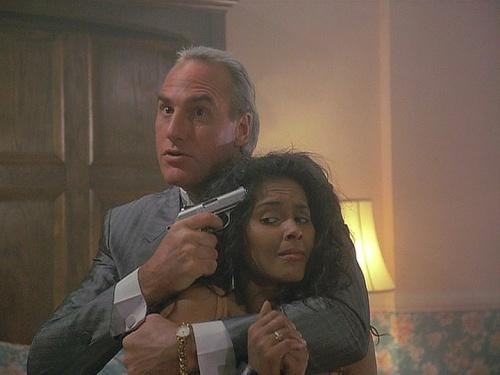Gun: (171, 184, 250, 233)
